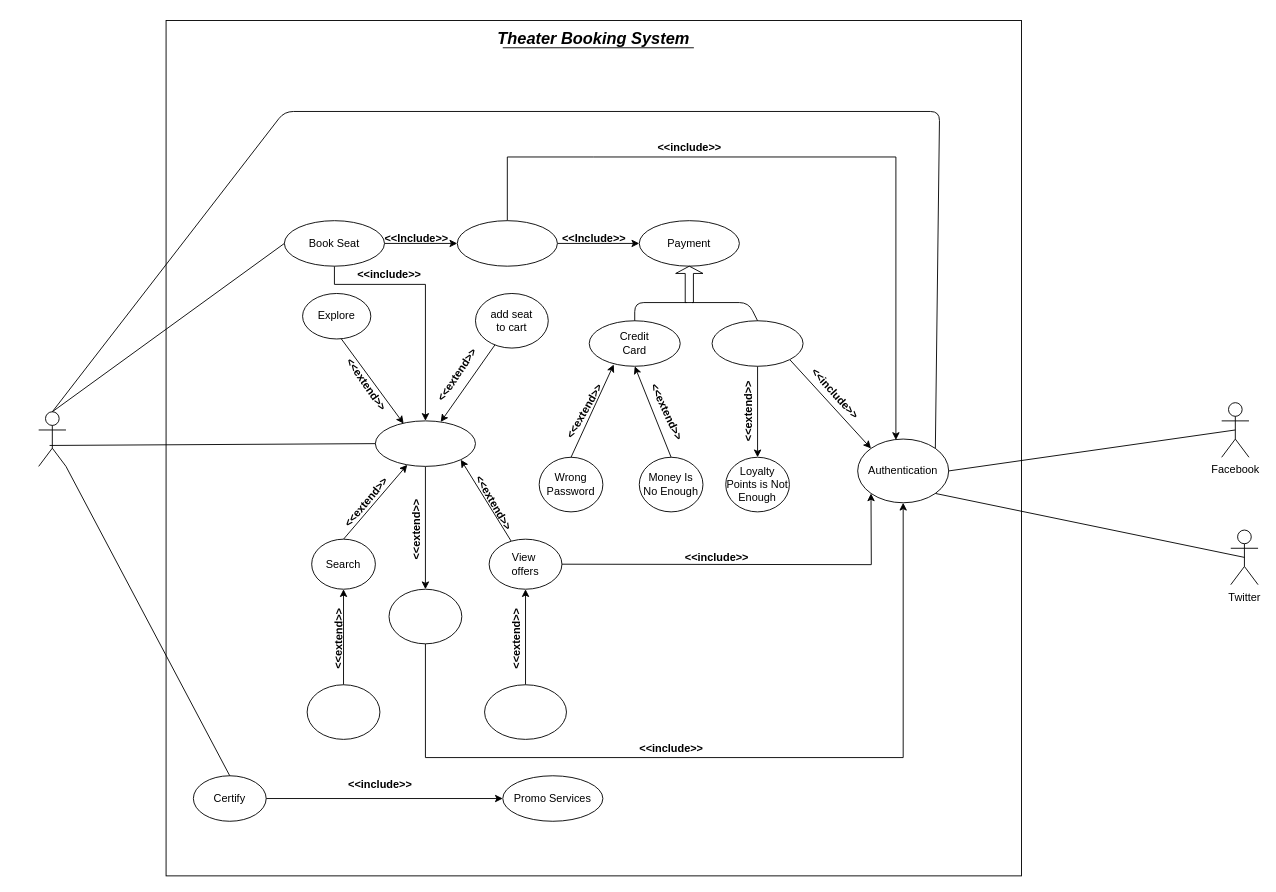
Some shapes in this 1276 by 892 pixel diagram are drawn without their labels. Each missing label, with the centre of its shape:
Checkout: point 506,243
Item Not Found: point 343,711
Joining waiting list: point 425,616
Loyalty Points: point 757,343
No Offers: point 525,711
View Perforamcnes: point 424,443
Web Custoemr: point 52,438
